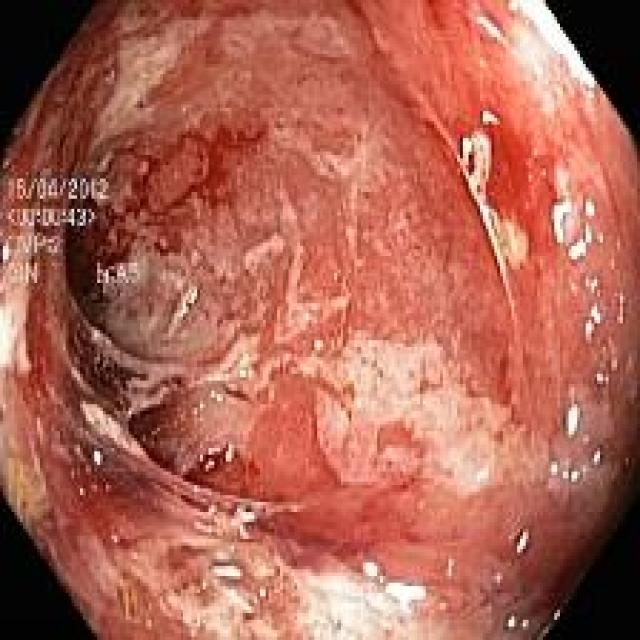ulcerative-colitis-grade-3: (0, 3, 639, 640)
